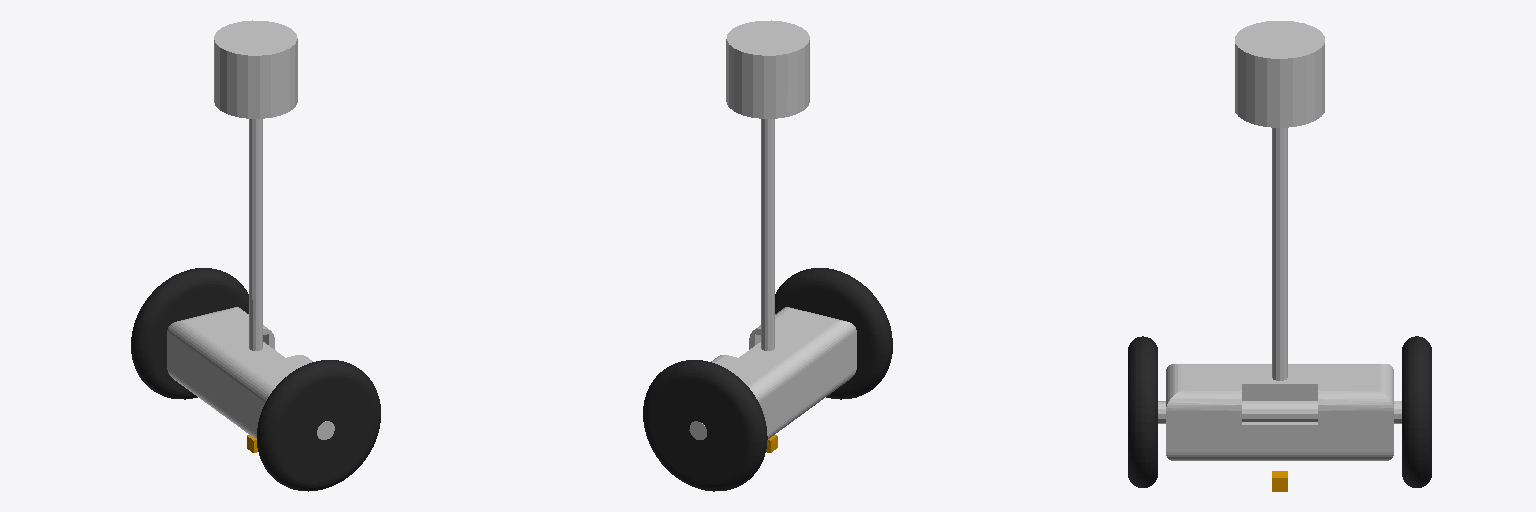
URDF robot description (segway_simulation):
<?xml version="1.0" encoding="iso-8859-1"?>

<robot
  name="segway_simulation">


  <link name="base_footprint" >
    <inertial>
      <mass value="0.0" />
      <origin xyz="0 0 0" />
      <inertia ixx="0.01" ixy="0.0" ixz="0.0" iyy="0.01" iyz="0.0" izz="0.01" />
    </inertial>
      <visual>
        <origin xyz="0 0 0" rpy="0 0 0" />
        <geometry>
          <box size="0.01 0.01 0.01" />
        </geometry>

        <material name="White" />
      </visual>
      <collision>
        <!-- represent base collision with a simple rectangular model, positioned by base_size_z s.t. top
        surface of the collision box matches the top surface of the PR2 base -->
        <origin xyz="0 0 0" rpy="0 0 0" />
        <geometry>
          <box size="0.001 0.001 0.001" />
        </geometry>
      </collision>
    </link>


    <link
      name="base_link">
      <inertial>
        <origin xyz="9.1148E-10 -0.0002584 0.1738" rpy="0 0 0" />
        <mass value="1.9117" />
        <inertia ixx="0.026825" ixy="1.7531E-10" ixz="3.0879E-10" iyy="0.028512" iyz="6.5345E-05" izz="0.0025426" />
      </inertial>
      <visual>
        <origin xyz="0 0 0" rpy="0 0 0" />
        <geometry>
          <mesh filename="package://segway_simulation/meshes/base_link.STL" />
        </geometry>
        <material name="">
          <color rgba="0.8 0.8 0.8 1" />
        </material>
      </visual>
      <collision>
        <origin xyz="0 0 0" rpy="0 0 0" />
        <geometry>
          <mesh filename="package://segway_simulation/meshes/base_link.STL" />
        </geometry>
      </collision>
    </link>


    <joint name="base_footprint_joint" type="fixed">
      <origin xyz="0 0 0.025" rpy="-1.57 0 -1.57" />
      <child link="base_link" />
      <parent link="base_footprint"/>
    </joint>


    <link name="left_wheel">
      <inertial>
        <origin xyz="-3.4694E-18 -1.7347E-18 0.01" rpy="0 0 0" />
        <mass value="0.16317" />
        <inertia ixx="0.00010169" ixy="6.7763E-21" ixz="9.8305E-21" iyy="0.00010169" iyz="5.1634E-21" izz="0.0001934" />
      </inertial>
      <visual>
        <origin xyz="0 0 0" rpy="0 0 0" />
        <geometry>
          <mesh filename="package://segway_simulation/meshes/left_wheel.STL" />
        </geometry>
        <material name="">
          <color rgba="0.2 0.2 0.2 1" />
        </material>
      </visual>
      <collision>
        <origin xyz="0 0 0" rpy="0 0 0" />
        <geometry>
          <mesh filename="package://segway_simulation/meshes/left_wheel.STL" />
        </geometry>
      </collision>
    </link>


    <joint name="left_wheel_joint" type="revolute">
      <origin xyz="-0.08 -0.025 0" rpy="1.5708 0.51513 -1.5708" />
      <parent link="base_link" />
      <child link="left_wheel" />
      <axis xyz="0 0 1" />
      <limit lower="0" upper="0" effort="0" velocity="0" />
      <calibration rising="0" falling="0" />
      <dynamics damping="0" friction="0" />
      <safety_controller soft_upper="0" soft_lower="0" k_position="0" k_velocity="0" />
    </joint>


    <link name="right_wheel">
      <inertial>
        <origin xyz="3.4694E-18 1.7632E-33 0.01" rpy="0 0 0" />
        <mass value="0.16317" />
        <inertia ixx="0.00010169" ixy="-8.8073E-40" ixz="-1.0966E-20" iyy="0.00010169" iyz="9.0393E-36" izz="0.0001934" />
      </inertial>
      <visual>
        <origin xyz="0 0 0" rpy="0 0 0" />
        <geometry>
          <mesh filename="package://segway_simulation/meshes/right_wheel.STL" />
        </geometry>
        <material name="">
          <color rgba="0.2 0.2 0.2 1" />
        </material>
      </visual>
      <collision>
        <origin xyz="0 0 0" rpy="0 0 0" />
        <geometry>
          <mesh filename="package://segway_simulation/meshes/right_wheel.STL" />
        </geometry>
      </collision>
    </link>


    <joint name="right_wheel_joint" type="revolute">
      <origin xyz="0.08 -0.025 0" rpy="-1.5708 -6.123E-17 -1.5708" />
      <parent link="base_link" />
      <child link="right_wheel" />
      <axis xyz="0 0 -1" />
      <limit lower="0" upper="0" effort="0" velocity="0" />
      <calibration rising="0" falling="0" />
      <dynamics damping="0" friction="0" />
      <safety_controller soft_upper="0" soft_lower="0" k_position="0" k_velocity="0" />
    </joint>


    <gazebo>
      <plugin name='object_controller' filename='libgazebo_ros_planar_move.so'>
        <commandTopic>cmd_vel</commandTopic>
        <odometryTopic>odom</odometryTopic>
        <odometryFrame>odom</odometryFrame>
        <odometryRate>20.0</odometryRate>
        <robotBaseFrame>base_footprint</robotBaseFrame>
      </plugin>
    </gazebo>
  </robot>

--- Facts derived from the render (not from the file) ---
The picture shows the robot from 3 angles, left to right: view 1: azimuth 30°, elevation 25°; view 2: azimuth 150°, elevation 25°; view 3: azimuth 270°, elevation 25°; orthographic projection.
Model segway_simulation with 4 links and 3 joints (2 revolute, 1 fixed), rooted at base_footprint, posed all joints at 0.
Visible links, largest first — view 1: base_link, right_wheel, left_wheel; view 2: base_link, left_wheel, right_wheel; view 3: base_link, left_wheel, right_wheel.
Link boxes in pixels (bbox=[...]): base_link: bbox=[167, 20, 334, 439]; right_wheel: bbox=[257, 360, 380, 491]; left_wheel: bbox=[131, 268, 248, 399]; base_link: bbox=[689, 20, 856, 439]; left_wheel: bbox=[643, 360, 767, 491]; right_wheel: bbox=[775, 268, 892, 399]; base_link: bbox=[1158, 21, 1401, 460]; left_wheel: bbox=[1402, 336, 1431, 487]; right_wheel: bbox=[1128, 336, 1157, 487].
Bounding box of the posed robot: 0.1001 × 0.2001 × 0.325 m (x, y, z).
Meshes: 3 distinct files referenced, 3 mesh visuals loaded (3 binary STL).
